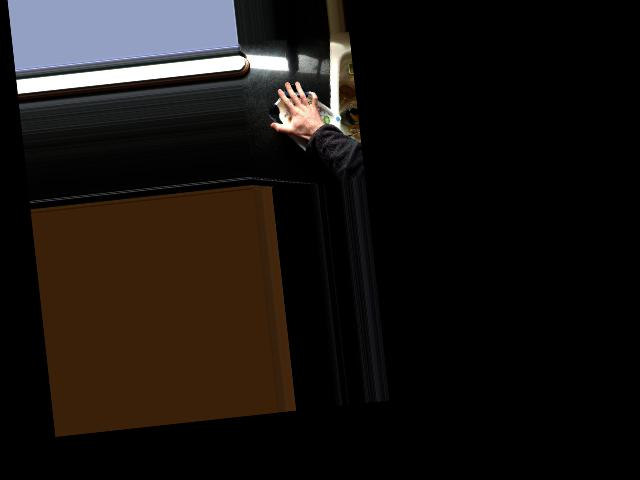cheese: (264, 77, 347, 159)
